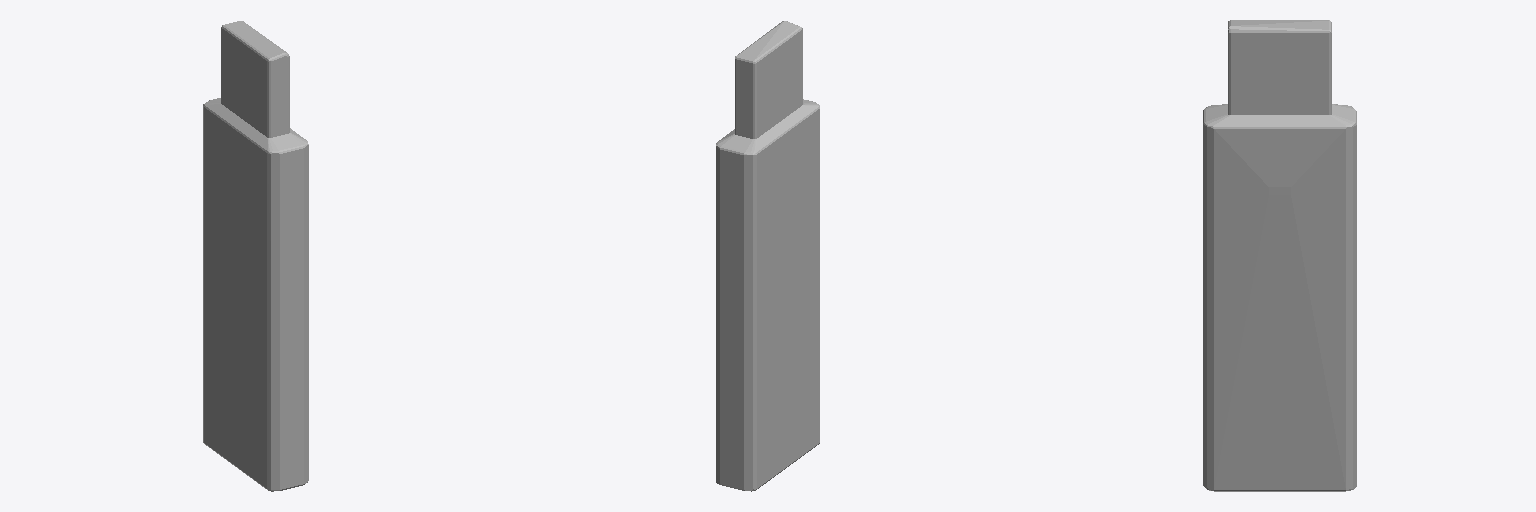
The robot description file, URDF, robot "root":
<robot name="root">
  <link name="link_coacd_convex_piece_0">
    <inertial>
      <origin xyz="0 0 0" rpy="0 0 0"/>
      <inertia ixx="2.93E-02" ixy="2.61E-07" ixz="8.79E-09" iyy="4.14E-03" iyz="-9.64E-06" izz="3.25E-02"/>
    </inertial>
    <visual>
      <origin xyz="0 0 0" rpy="0 0 0"/>
      <geometry>
        <mesh filename="coacd_convex_piece_0.obj" scale="1.0000E+00 1.0000E+00 1.0000E+00"/>
      </geometry>
      <material name="">
        <color rgba="7.50E-01 7.50E-01 7.50E-01 1"/>
      </material>
    </visual>
    <collision>
      <origin xyz="0 0 0" rpy="0 0 0"/>
      <geometry>
        <mesh filename="coacd_convex_piece_0.obj" scale="1.0000E+00 1.0000E+00 1.0000E+00"/>
      </geometry>
    </collision>
  </link>
  <link name="link_coacd_convex_piece_1">
    <inertial>
      <origin xyz="0 0 0" rpy="0 0 0"/>
      <inertia ixx="6.58E-03" ixy="4.91E-06" ixz="-2.40E-08" iyy="1.55E-04" iyz="-9.98E-05" izz="6.71E-03"/>
    </inertial>
    <visual>
      <origin xyz="0 0 0" rpy="0 0 0"/>
      <geometry>
        <mesh filename="coacd_convex_piece_1.obj" scale="1.0000E+00 1.0000E+00 1.0000E+00"/>
      </geometry>
      <material name="">
        <color rgba="7.50E-01 7.50E-01 7.50E-01 1"/>
      </material>
    </visual>
    <collision>
      <origin xyz="0 0 0" rpy="0 0 0"/>
      <geometry>
        <mesh filename="coacd_convex_piece_1.obj" scale="1.0000E+00 1.0000E+00 1.0000E+00"/>
      </geometry>
    </collision>
  </link>
  <joint name="link_coacd_convex_piece_1_joint" type="fixed">
    <origin xyz="0 0 0" rpy="0 0 0"/>
    <parent link="link_coacd_convex_piece_0"/>
    <child link="link_coacd_convex_piece_1"/>
  </joint>
</robot>

--- Facts derived from the render (not from the file) ---
3 views of the same robot in one strip: view 1: azimuth 30°, elevation 25°; view 2: azimuth 150°, elevation 25°; view 3: azimuth 270°, elevation 25° (orthographic).
Robot: root — 2 links, 1 joints (1 fixed); root link link_coacd_convex_piece_0; default pose: every joint at zero.
Visible links, largest first — view 1: link_coacd_convex_piece_0, link_coacd_convex_piece_1; view 2: link_coacd_convex_piece_0, link_coacd_convex_piece_1; view 3: link_coacd_convex_piece_0, link_coacd_convex_piece_1.
Boxes of the visible links, <box> form: link_coacd_convex_piece_0: <box>203,98,308,491</box>; link_coacd_convex_piece_1: <box>221,21,289,137</box>; link_coacd_convex_piece_0: <box>716,99,819,491</box>; link_coacd_convex_piece_1: <box>735,21,802,138</box>; link_coacd_convex_piece_0: <box>1203,104,1356,491</box>; link_coacd_convex_piece_1: <box>1228,20,1331,114</box>.
Bounding box of the posed robot: 0.2039 × 0.5709 × 1.88 m (x, y, z).
Meshes: 2 distinct files referenced, 2 mesh visuals loaded (2 OBJ).
